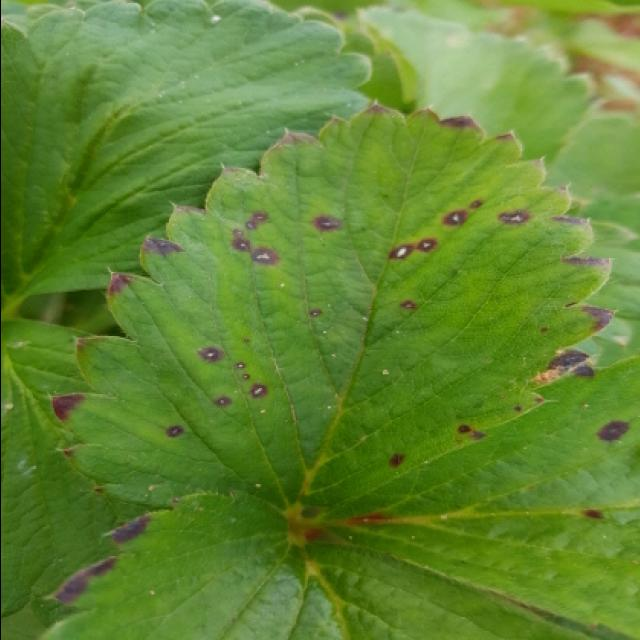Leaf Spot: (48, 100, 619, 516), (311, 354, 640, 640)
